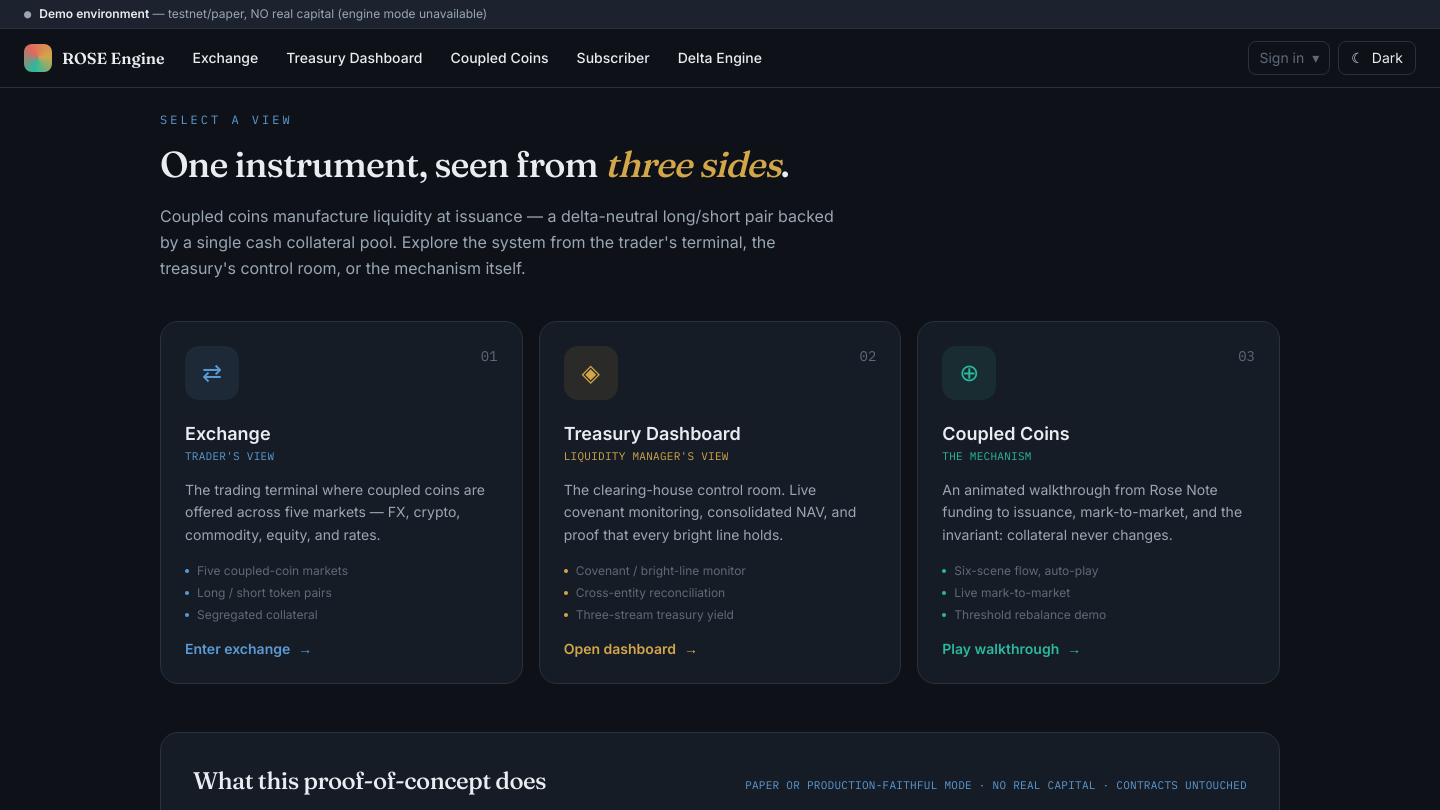
Test: Shell — session identity wiring (Story 9.3, FR-30) › no session ⇒ a gated surface shows "sign in first" and never queries a default address
What coordinates should you click on to do the following:
click the button "Exchange"
I would click on:
 (225, 58)
Its box is x1=180 y1=42 x2=270 y2=74.
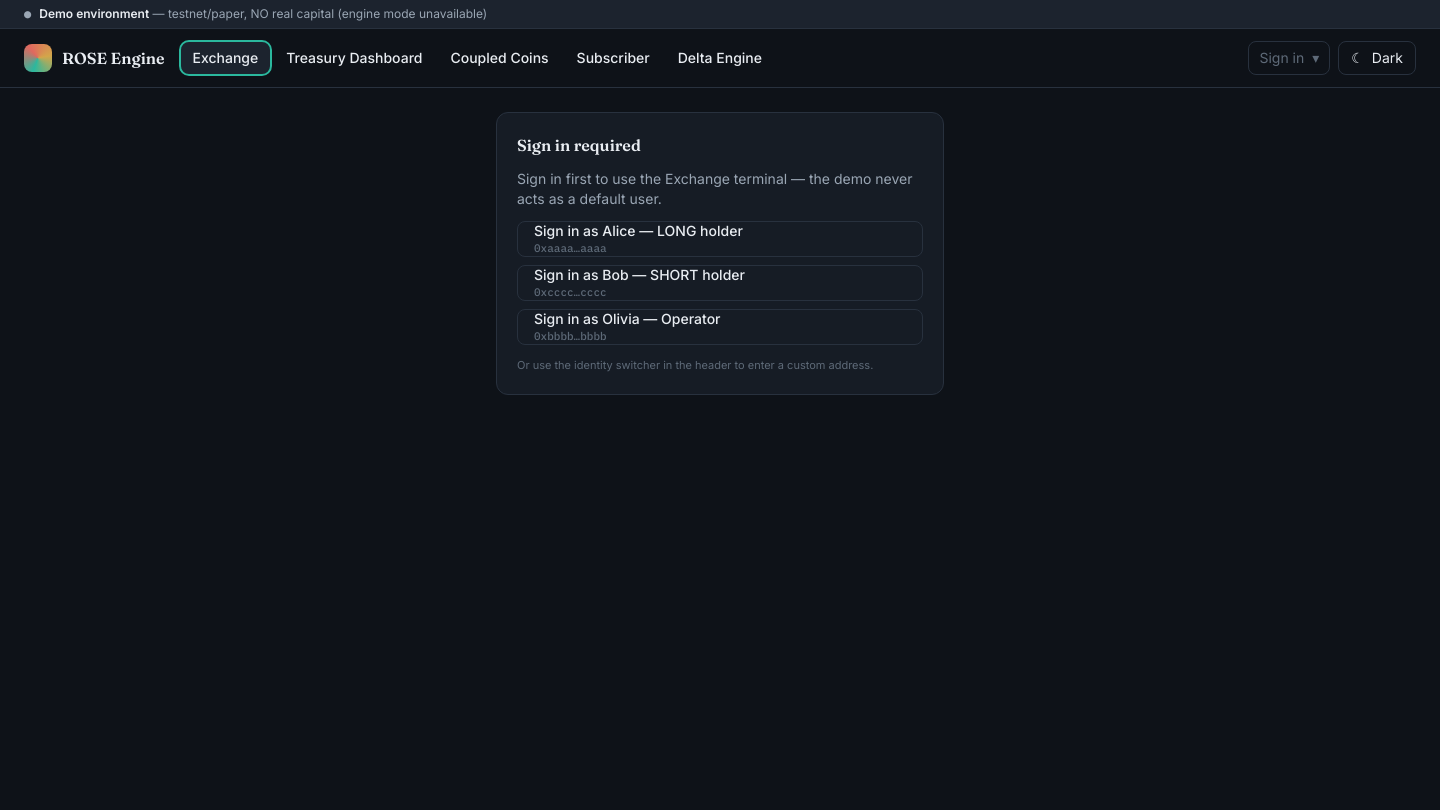
expect the text "Sign in first to use the Exchange terminal" is shown: met, box x1=517 y1=170 x2=912 y2=207
# The Subscriber surface is gated the same way.
What coordinates should you click on to do the following:
click the button "Subscriber"
I would click on:
 (613, 58)
Its box is x1=565 y1=42 x2=662 y2=74.
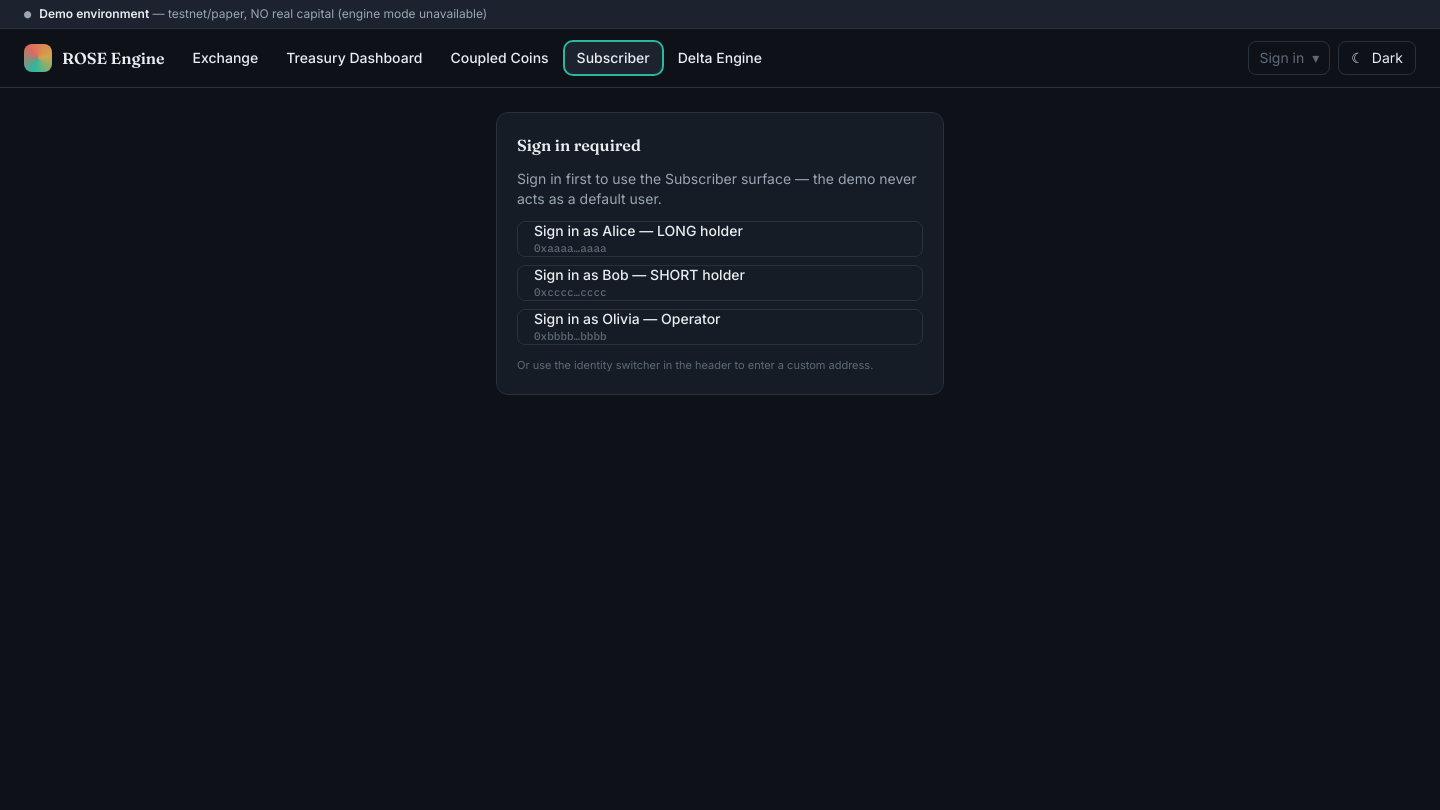
expect the text "Sign in first to use the Subscriber surface" is shown: met, box x1=517 y1=170 x2=916 y2=207
